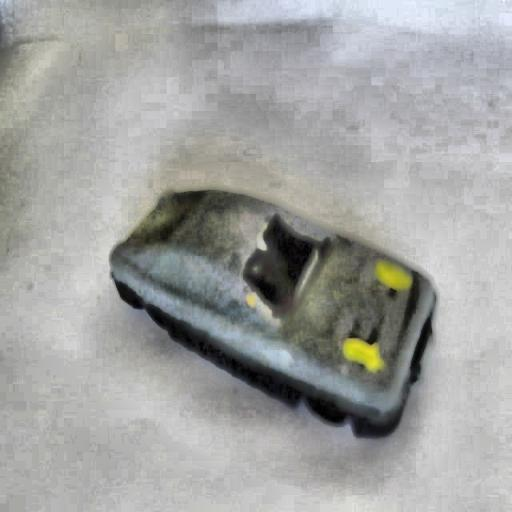normal_car: (104, 181, 442, 440)
